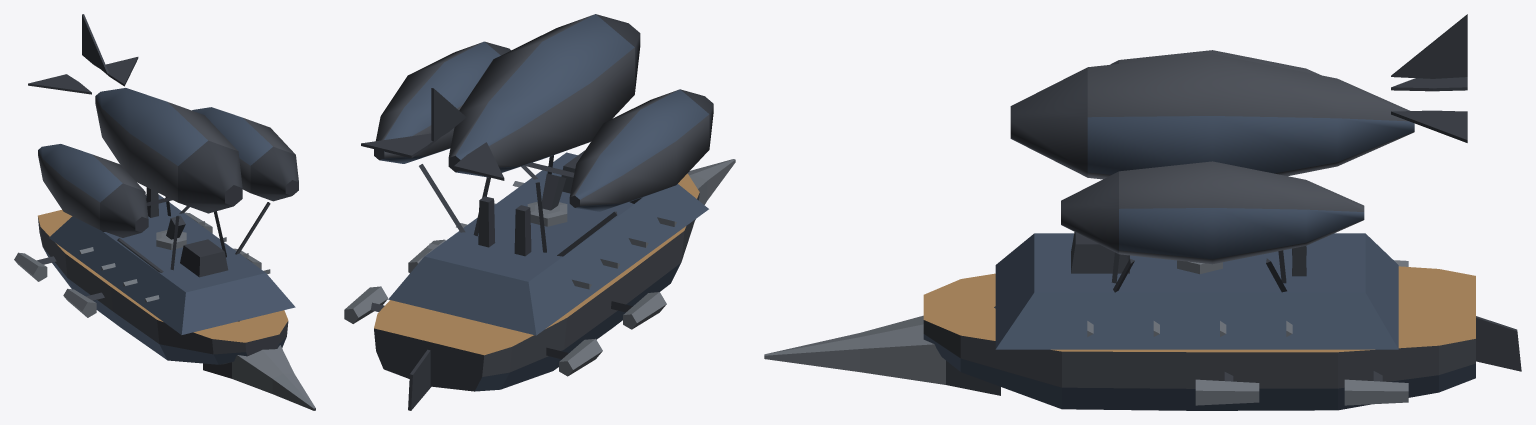
The model's file is SM_Ship_Bastion_LQ.glb.
3 renders of one model, left to right at view 1: azimuth 30°, elevation 25°; view 2: azimuth 150°, elevation 25°; view 3: azimuth 270°, elevation 25°, orthographic. The views are drawn at different scales.
Visible parts, largest first — view 1: SM_Ship_Bastion_LQ; view 2: SM_Ship_Bastion_LQ; view 3: SM_Ship_Bastion_LQ.
Boxes of the visible parts, left/top/right/bottom form: SM_Ship_Bastion_LQ: left=14, top=14, right=315, bottom=410; SM_Ship_Bastion_LQ: left=344, top=14, right=735, bottom=410; SM_Ship_Bastion_LQ: left=764, top=14, right=1521, bottom=410.
Bounding box in the file's own units: 17.03 × 19.2 × 35.64.
1 material, 1 textured.
